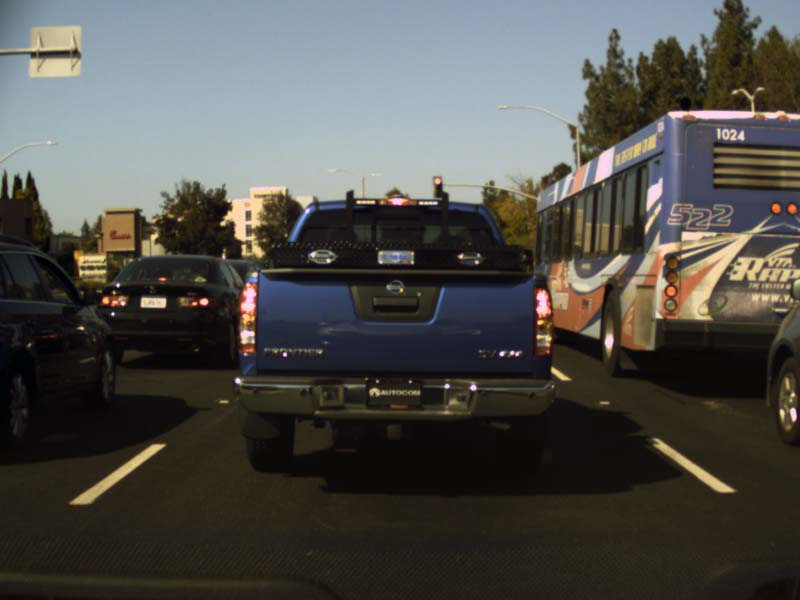Red: (432, 175, 442, 198)
